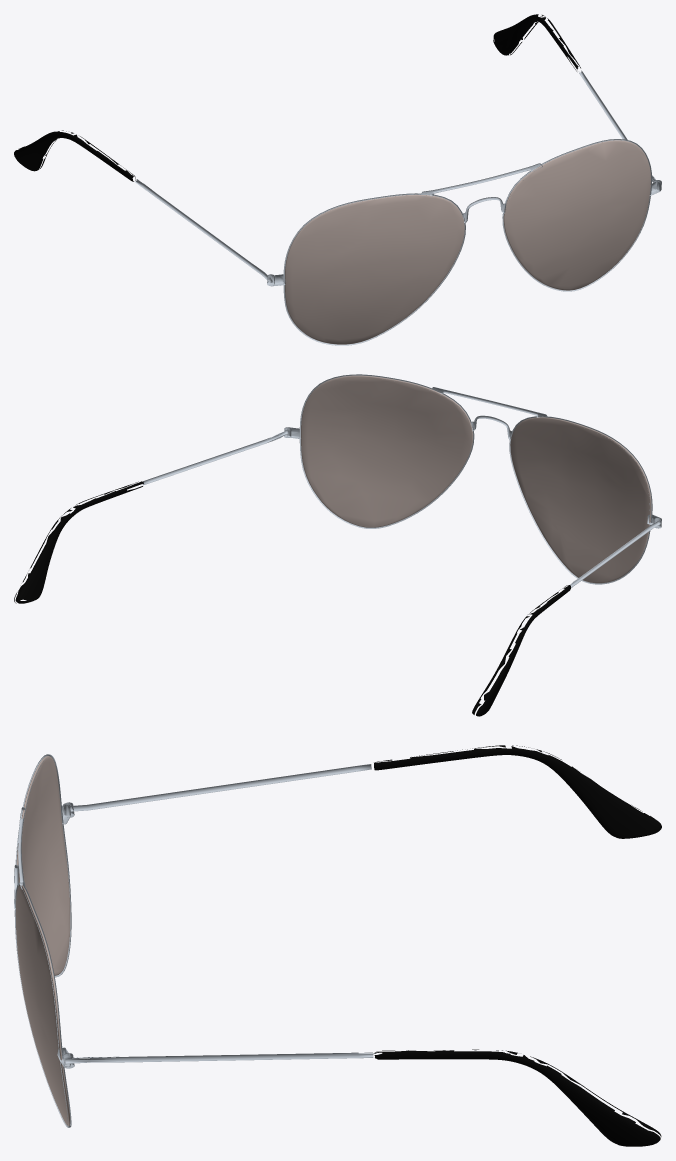
Rendered from glassesONElast.glb.
3 views of the same model, one above another, from view 1: azimuth 30°, elevation 25°; view 2: azimuth 150°, elevation 25°; view 3: azimuth 270°, elevation 25° (orthographic). The views are drawn at different scales.
Parts seen in each view (by area): view 1: lens.001, Glasses1, frameEnd; view 2: lens.001, Glasses1, frameEnd; view 3: lens.001, frameEnd, Glasses1.
Boxes of the visible parts, <box> form: lens.001: <box>285,140,650,344</box>; Glasses1: <box>135,70,661,345</box>; frameEnd: <box>14,14,580,181</box>; lens.001: <box>301,375,651,583</box>; Glasses1: <box>142,374,661,587</box>; frameEnd: <box>14,481,570,716</box>; lens.001: <box>15,756,70,1126</box>; frameEnd: <box>374,745,661,1146</box>; Glasses1: <box>14,754,376,1127</box>.
Size of the model in its own units: 2.53 by 0.7514 by 2.18.
